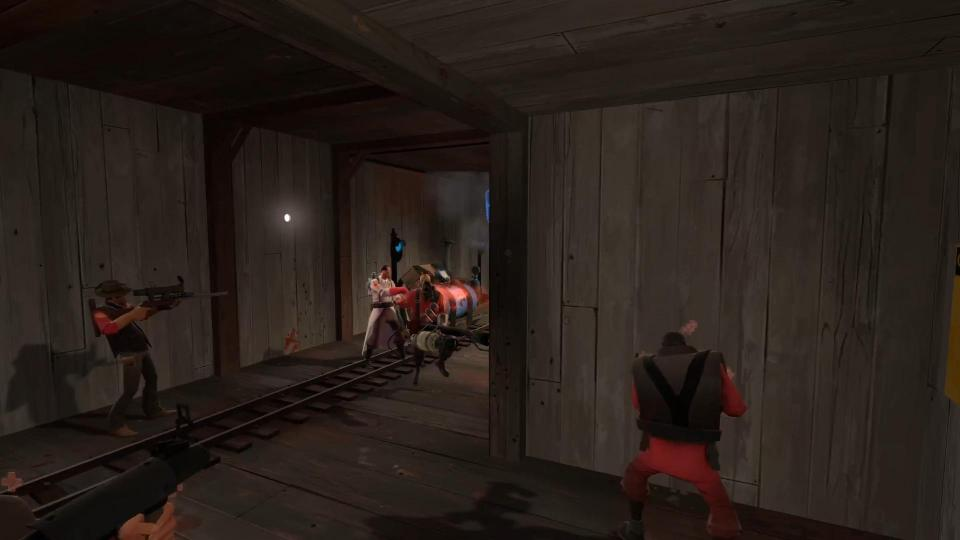Enemy: (618, 329, 748, 540), (88, 273, 229, 439), (396, 273, 488, 385), (361, 266, 408, 364)
